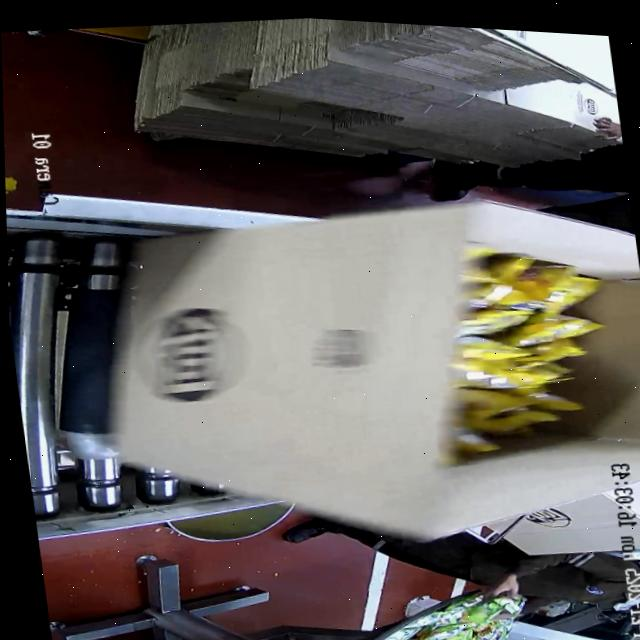SALTED: (447, 250, 598, 455)
